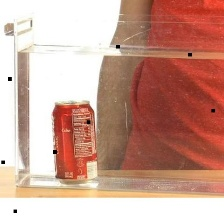can: (41, 93, 105, 186)
